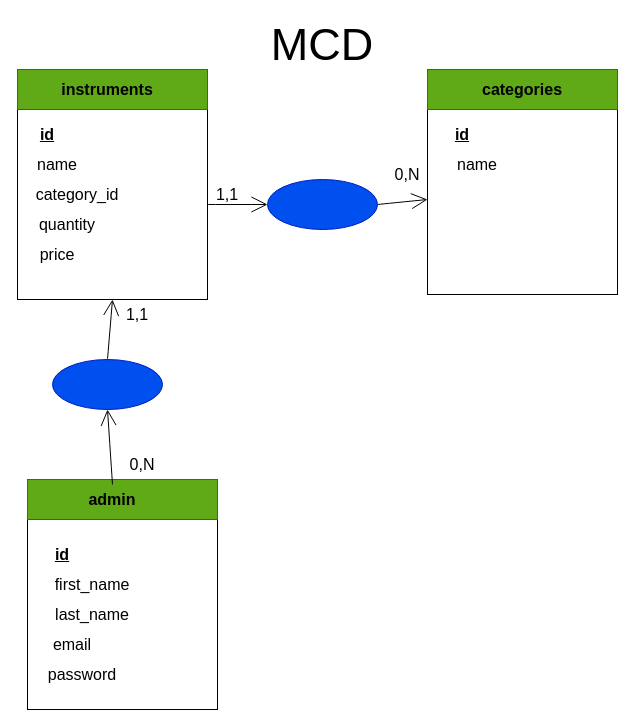
The diagram is 635 pixels wide and 727 high, and some of its shapes have lost their labels. The shapes that lost their labels are listed below. From the top down, each one's centre as x and y in pixels, then its label:
At point 322,204: "have".
At point 107,384: "add".
